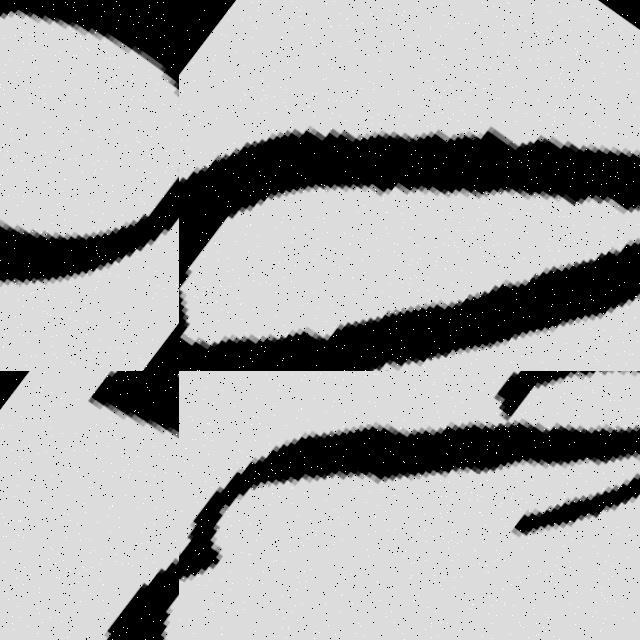6: (0, 0, 179, 371)
A: (179, 0, 640, 371)
D: (242, 371, 640, 640)
K: (0, 371, 179, 640)
